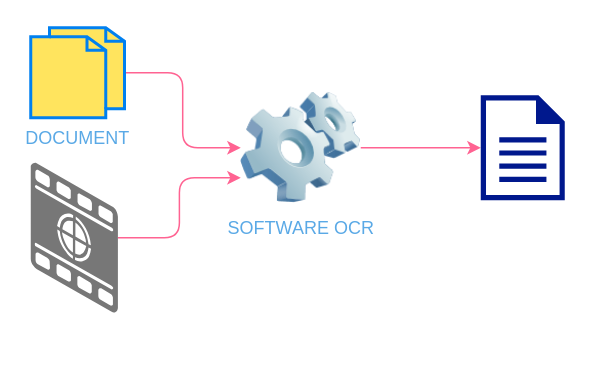
The diagram is 591 pixels wide and 369 high, and some of its shapes have lost their labels. Each missing label, with the centre of its shape:
"IMAGINE" goes at pixel 73 237.
"TEXT" goes at pixel 522 147.
